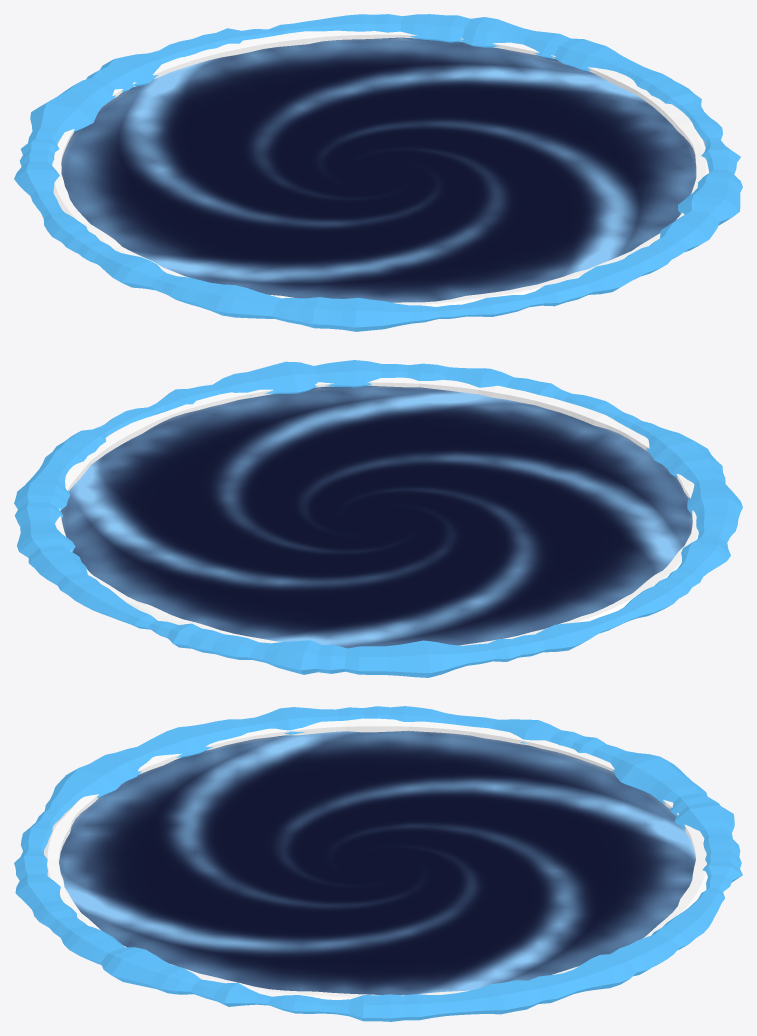
The model's file is Portals.glb.
The picture shows the model from 3 angles, top to bottom: view 1: azimuth 30°, elevation 25°; view 2: azimuth 150°, elevation 25°; view 3: azimuth 270°, elevation 25°; orthographic projection.
Visible parts, largest first — view 1: PortalDisc, PortalRim, PortalCore; view 2: PortalDisc, PortalRim, PortalCore; view 3: PortalDisc, PortalRim, PortalCore.
Part boxes in pixels (bbox=[...]): PortalDisc: bbox=[61, 37, 705, 302]; PortalRim: bbox=[14, 14, 742, 331]; PortalCore: bbox=[52, 30, 708, 306]; PortalDisc: bbox=[61, 385, 692, 648]; PortalRim: bbox=[14, 360, 742, 677]; PortalCore: bbox=[55, 377, 698, 645]; PortalDisc: bbox=[59, 730, 695, 994]; PortalRim: bbox=[14, 706, 742, 1021]; PortalCore: bbox=[44, 718, 707, 999].
Bounding box in the file's own units: 2.13 × 0.0768 × 2.12.
3 materials, 3 textured.
